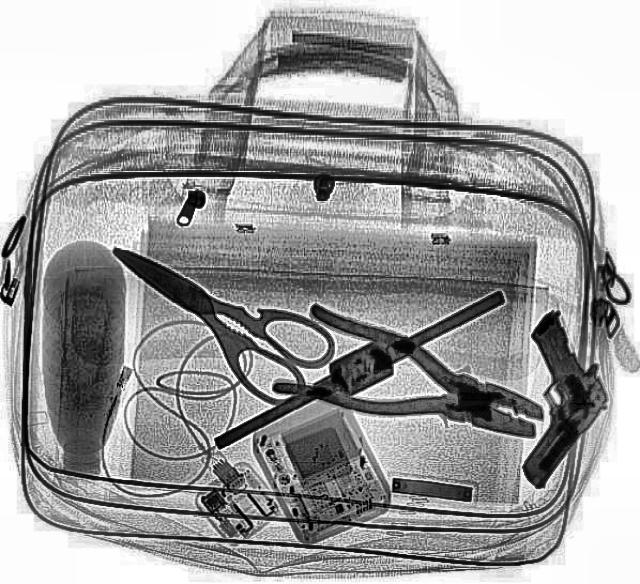Gun: (448, 310, 638, 486)
Pliers: (268, 302, 560, 472)
Scissors: (79, 214, 347, 412)
